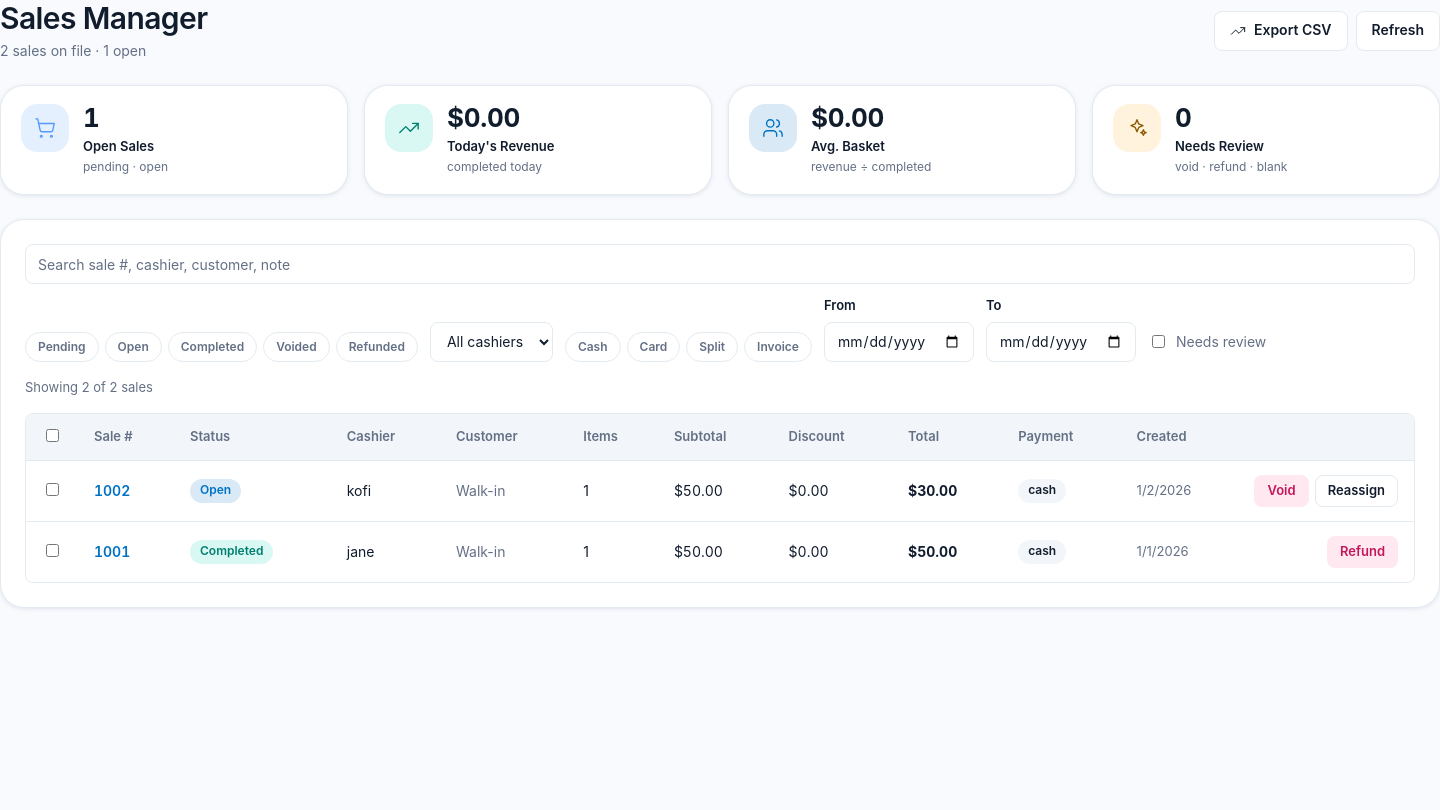
SalesManagerPage — manager actions › opens the sale detail drawer on row click
Click the button "1001" at coordinates (112, 552), box left=94, top=541, right=130, bottom=562
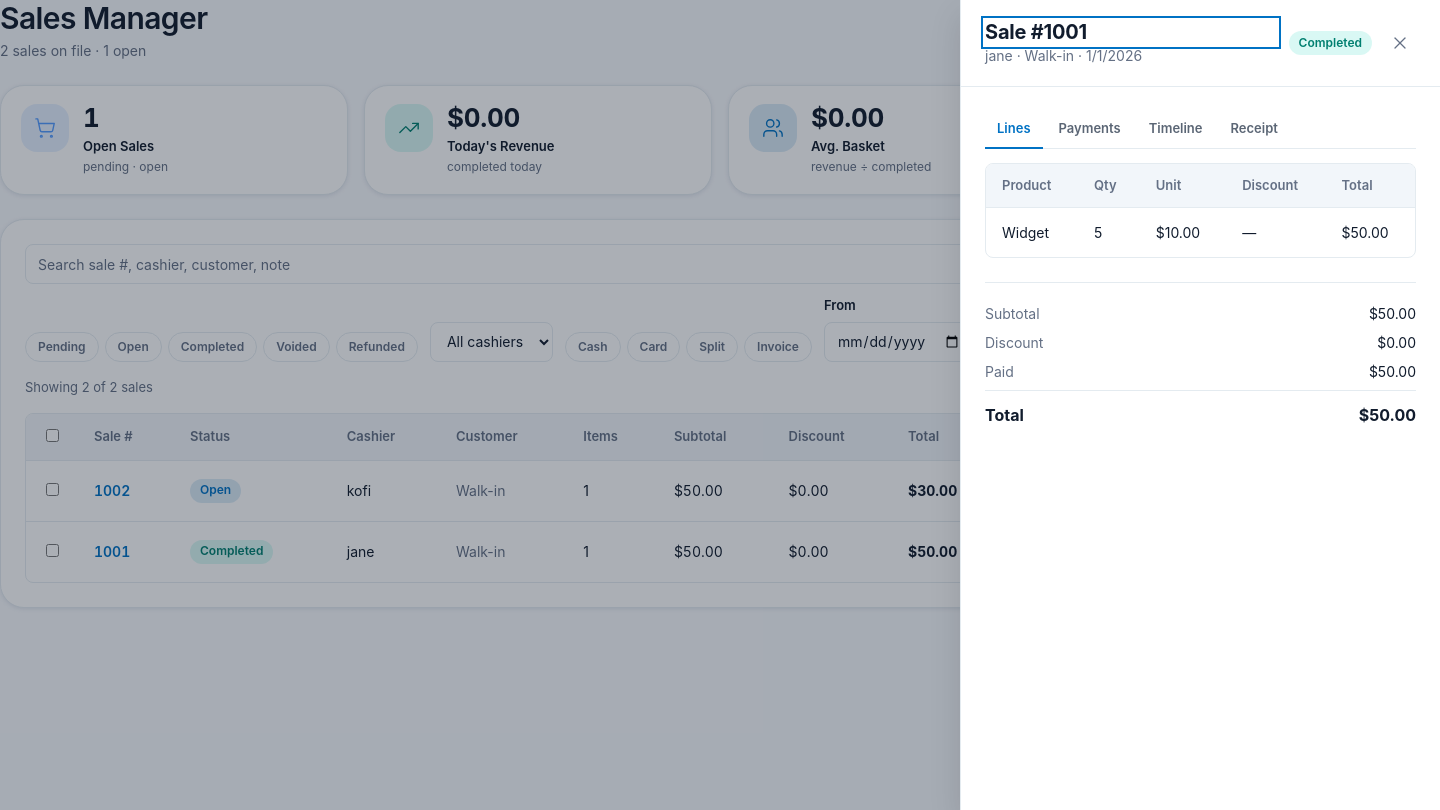
Check: the text "Widget" is shown, box left=986, top=208, right=1078, bottom=257
// Payment detail lives on the Payments tab.
Click the tab "Payments" at coordinates (1090, 130), box left=1046, top=111, right=1133, bottom=148
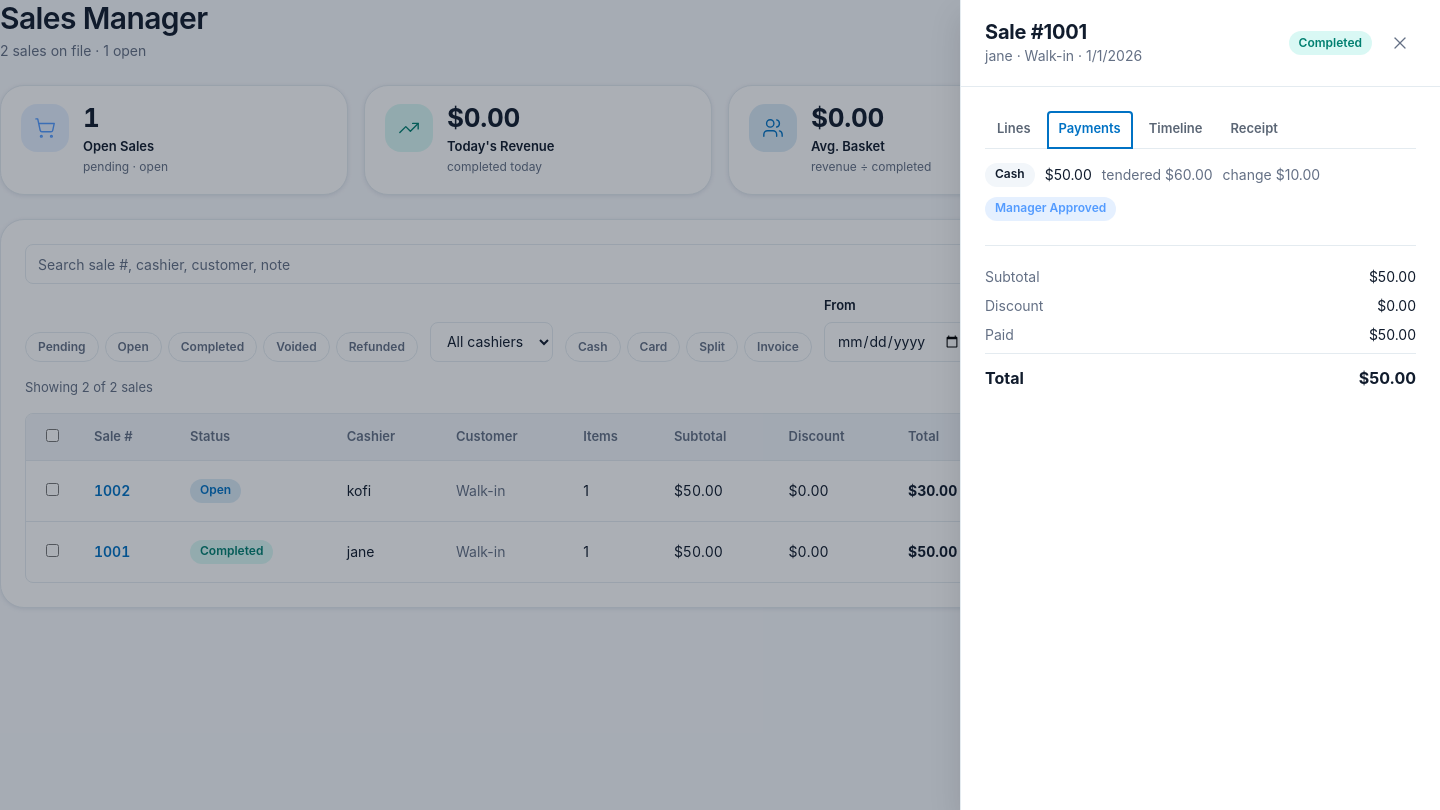
Check: the text "cash" is shown, box left=985, top=162, right=1035, bottom=186
